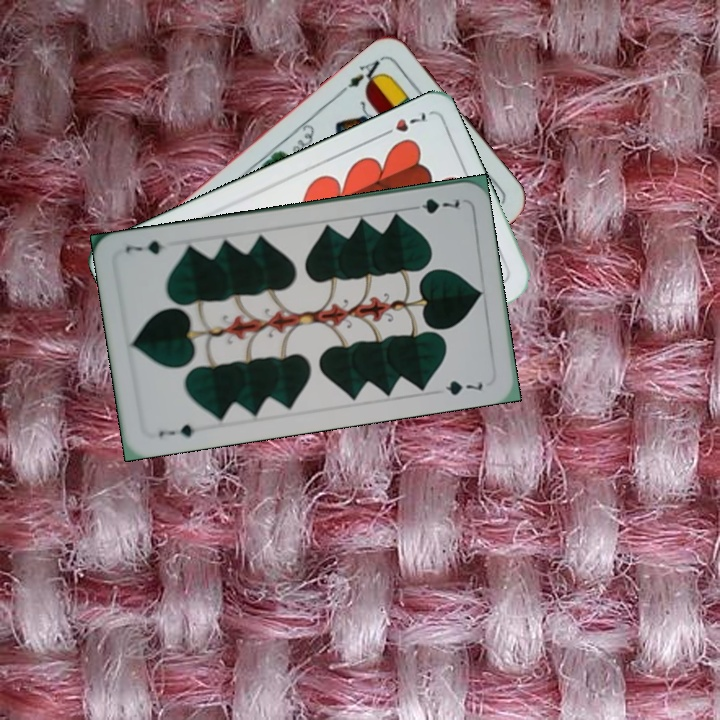EA: (336, 53, 387, 96)
G7: (405, 194, 464, 216), (154, 420, 197, 440)
H7: (375, 108, 432, 140)
